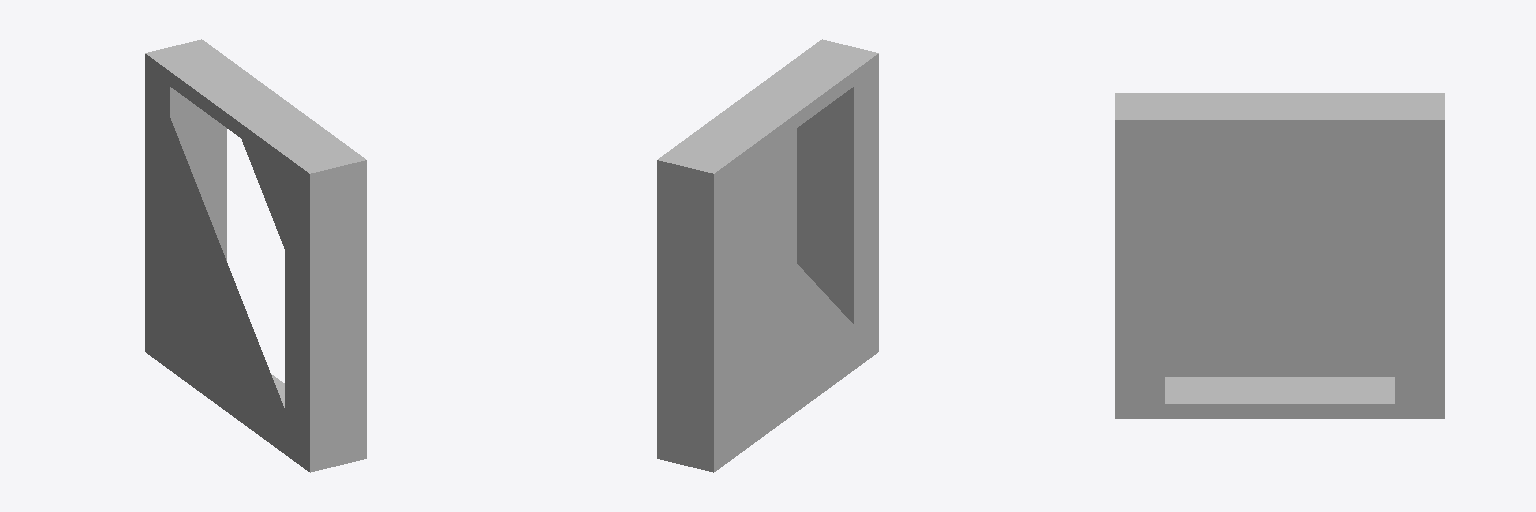
3 views of the same model, side by side, from view 1: azimuth 30°, elevation 25°; view 2: azimuth 150°, elevation 25°; view 3: azimuth 270°, elevation 25° (orthographic).
Parts seen in each view (by area): view 1: Window_Cube.001; view 2: Window_Cube.001; view 3: Window_Cube.001.
Boxes of the visible parts, box(x1,y1,x2,y2) form: Window_Cube.001: box(145, 39, 366, 472); Window_Cube.001: box(657, 39, 878, 472); Window_Cube.001: box(1115, 93, 1444, 418).
Size of the model in its own units: 0.4 by 2 by 2.